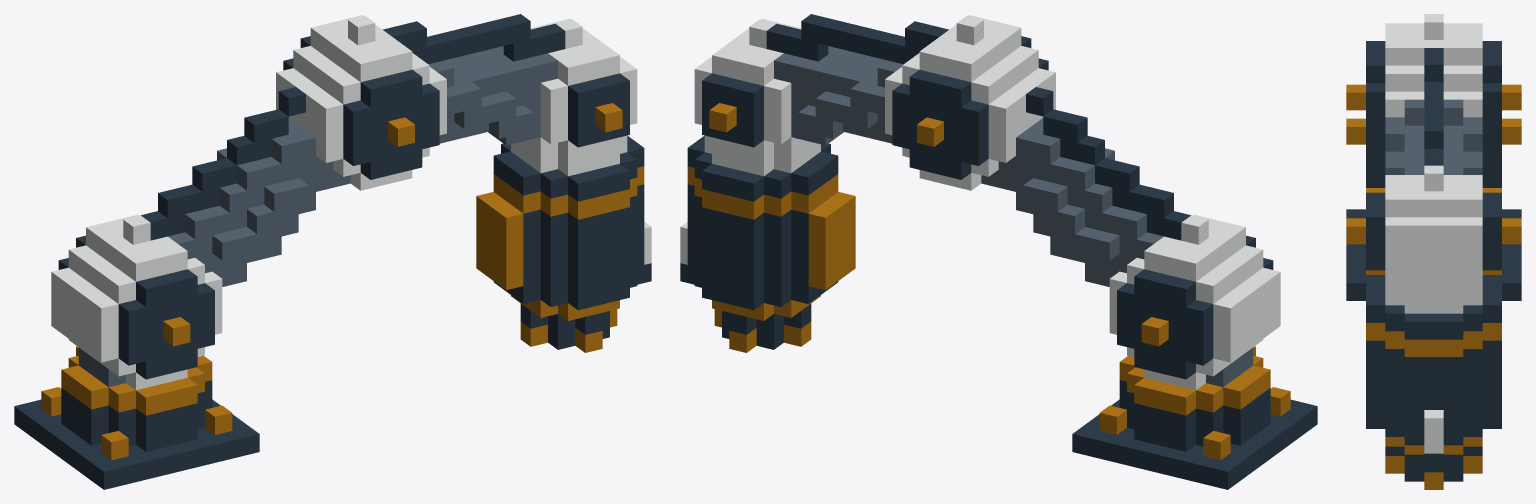
File: IDD Robotic Arm and RAT Tool (Opportunity).glb
3 views of the same model, side by side, from view 1: azimuth 30°, elevation 25°; view 2: azimuth 150°, elevation 25°; view 3: azimuth 270°, elevation 25° (orthographic). The views are drawn at different scales.
Parts seen in each view (by area): view 1: Brazo_IDD_RAT_Voxel; view 2: Brazo_IDD_RAT_Voxel; view 3: Brazo_IDD_RAT_Voxel.
Part boxes in pixels (left/top/right/bottom): Brazo_IDD_RAT_Voxel: left=14, top=14, right=651, bottom=489; Brazo_IDD_RAT_Voxel: left=680, top=14, right=1317, bottom=489; Brazo_IDD_RAT_Voxel: left=1346, top=14, right=1521, bottom=489.
Bounding box in the file's own units: 3.4 × 2 × 0.9.
